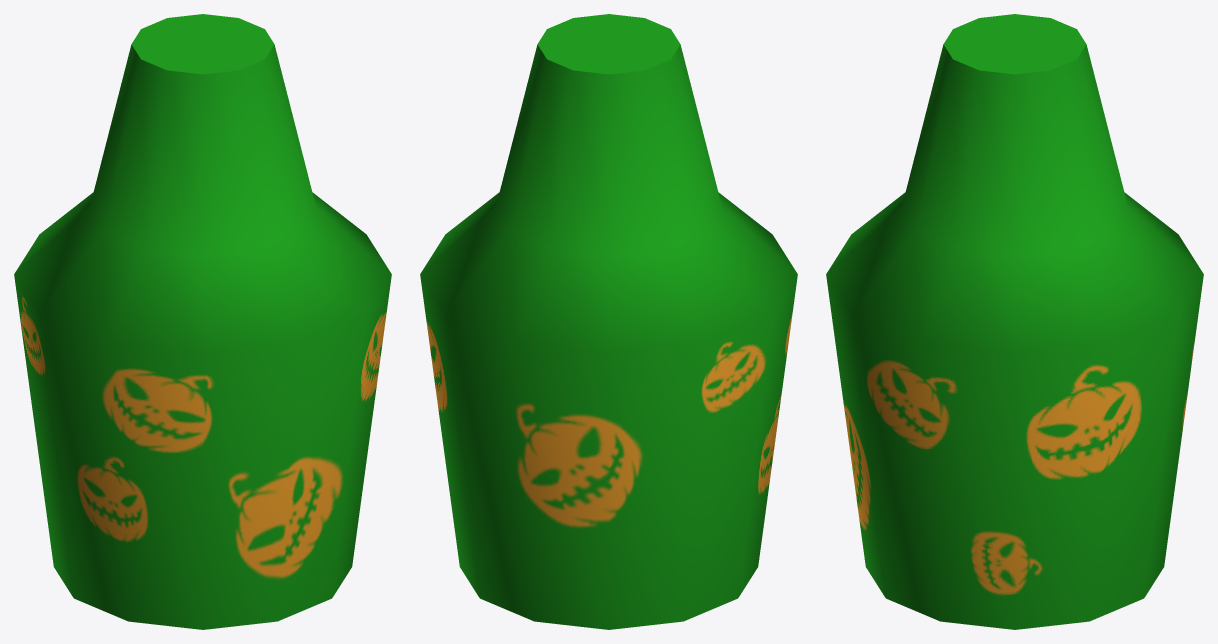
Rendered from HW_greenMixCup.fbx.
3 renders of one model, left to right at view 1: azimuth 30°, elevation 25°; view 2: azimuth 150°, elevation 25°; view 3: azimuth 270°, elevation 25°, orthographic.
Visible parts, largest first — view 1: HW_greenMixCup; view 2: HW_greenMixCup; view 3: HW_greenMixCup.
Part boxes in pixels (box(x1,y1,x2,y2)): HW_greenMixCup: box(14, 14, 391, 629); HW_greenMixCup: box(420, 14, 797, 629); HW_greenMixCup: box(826, 14, 1203, 629).
Bounding box in the file's own units: 0.1734 × 0.2648 × 0.1734.
1 material, 1 textured.
